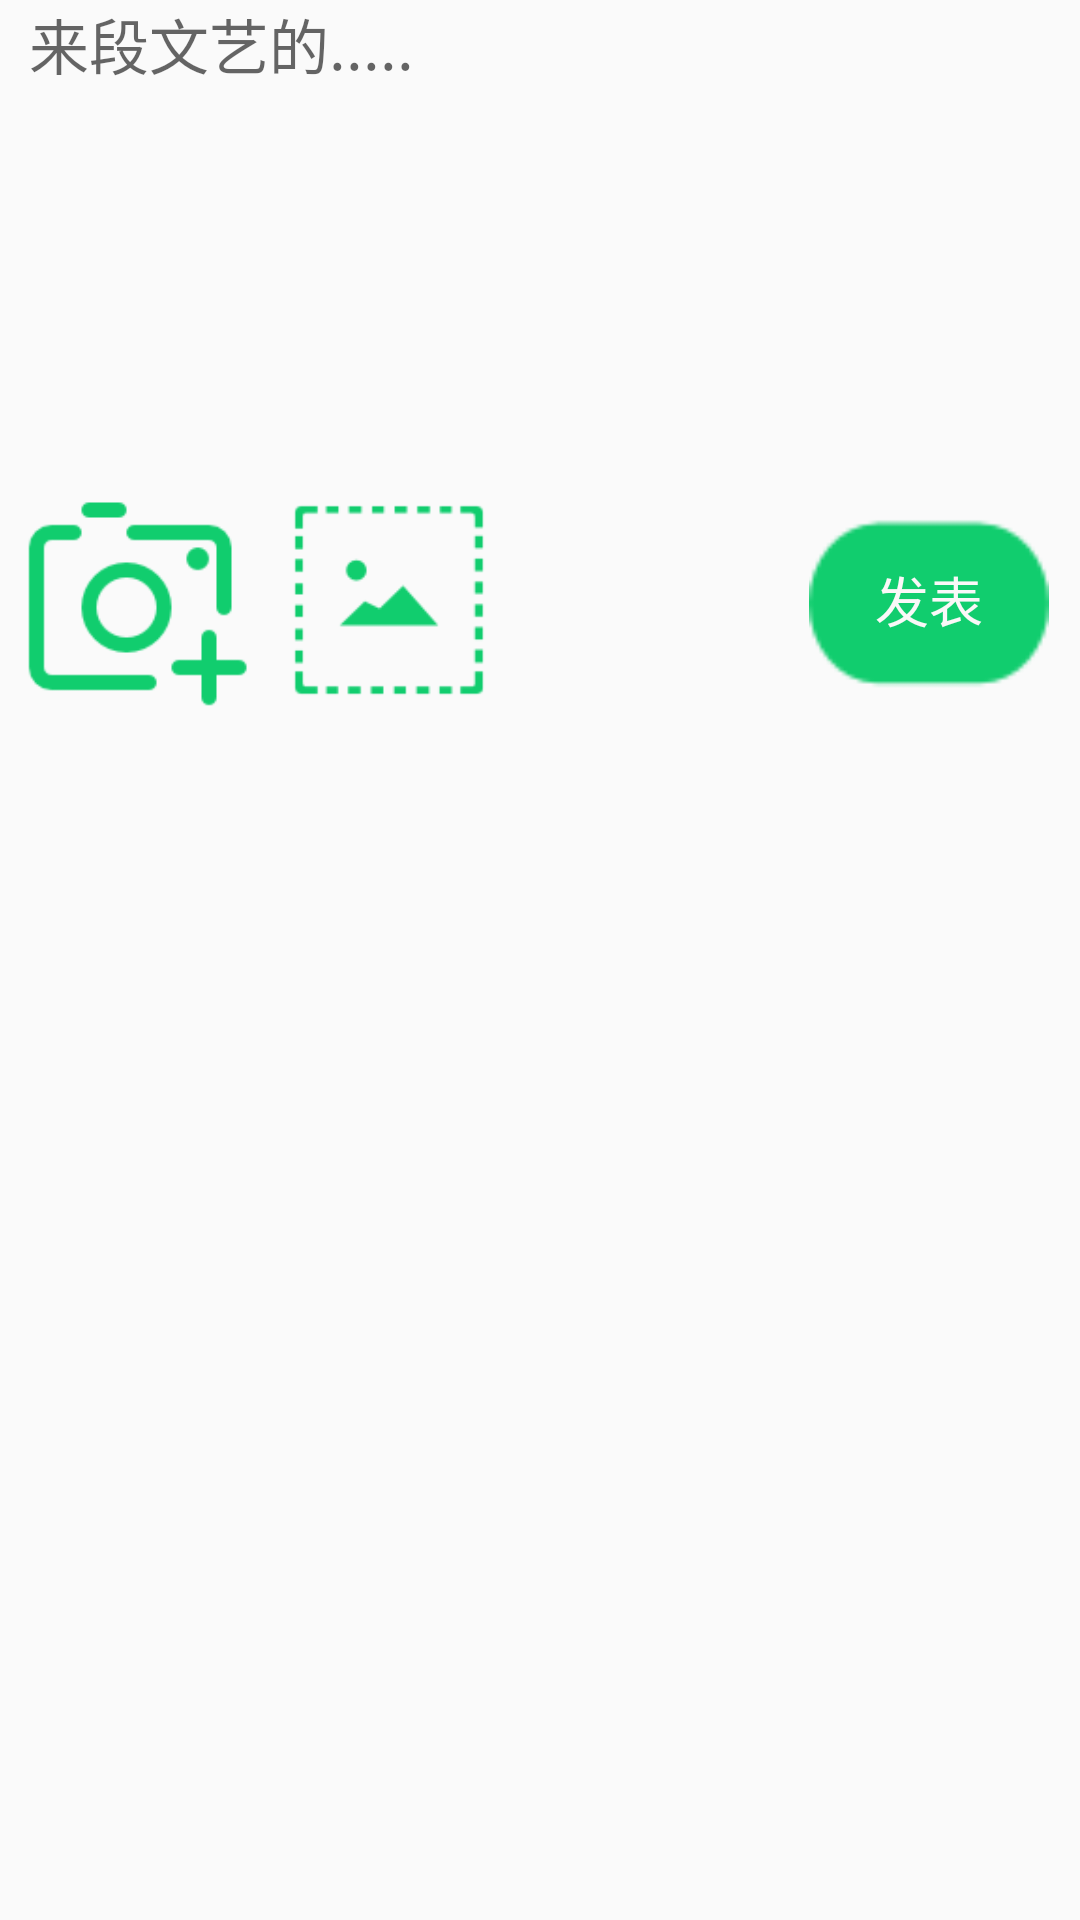

Screen size 1080×1920. Icon name, then its center in pixels as (x,y):
camera: (137,604)
